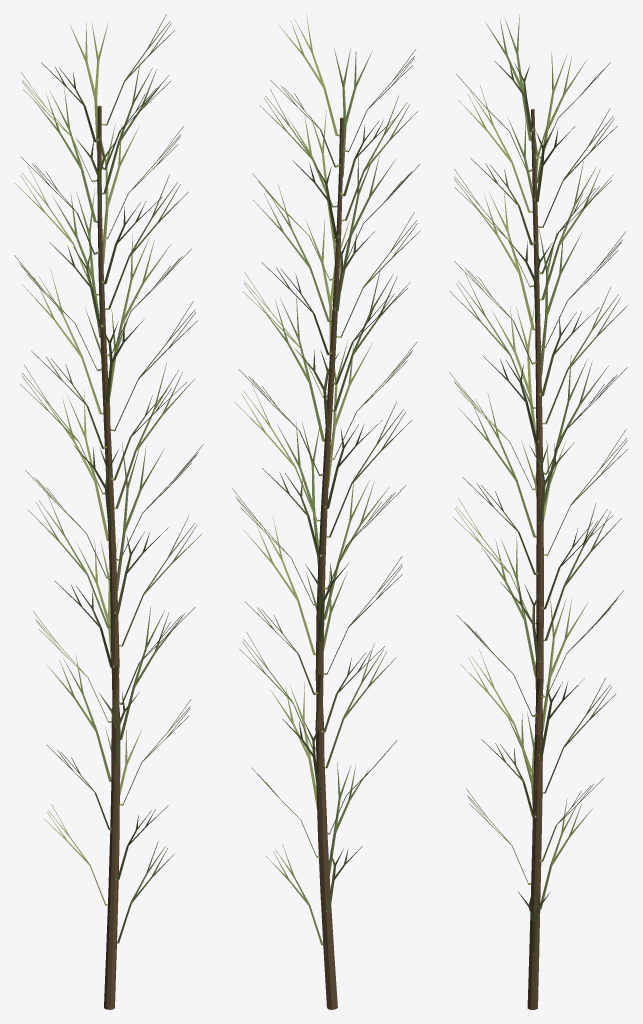
File: dicranophyllum.glb
3 views of the same model, side by side, from view 1: azimuth 30°, elevation 25°; view 2: azimuth 150°, elevation 25°; view 3: azimuth 270°, elevation 25° (orthographic).
Parts seen in each view (by area): view 1: slender-helical-doublefork-leafy-axis; view 2: slender-helical-doublefork-leafy-axis; view 3: slender-helical-doublefork-leafy-axis.
Boxes of the visible parts, <box> form: slender-helical-doublefork-leafy-axis: <box>14,14,203,1009</box>; slender-helical-doublefork-leafy-axis: <box>232,14,419,1009</box>; slender-helical-doublefork-leafy-axis: <box>449,15,627,1009</box>.
Bounding box in the file's own units: 0.3065 × 1.74 × 0.292.
